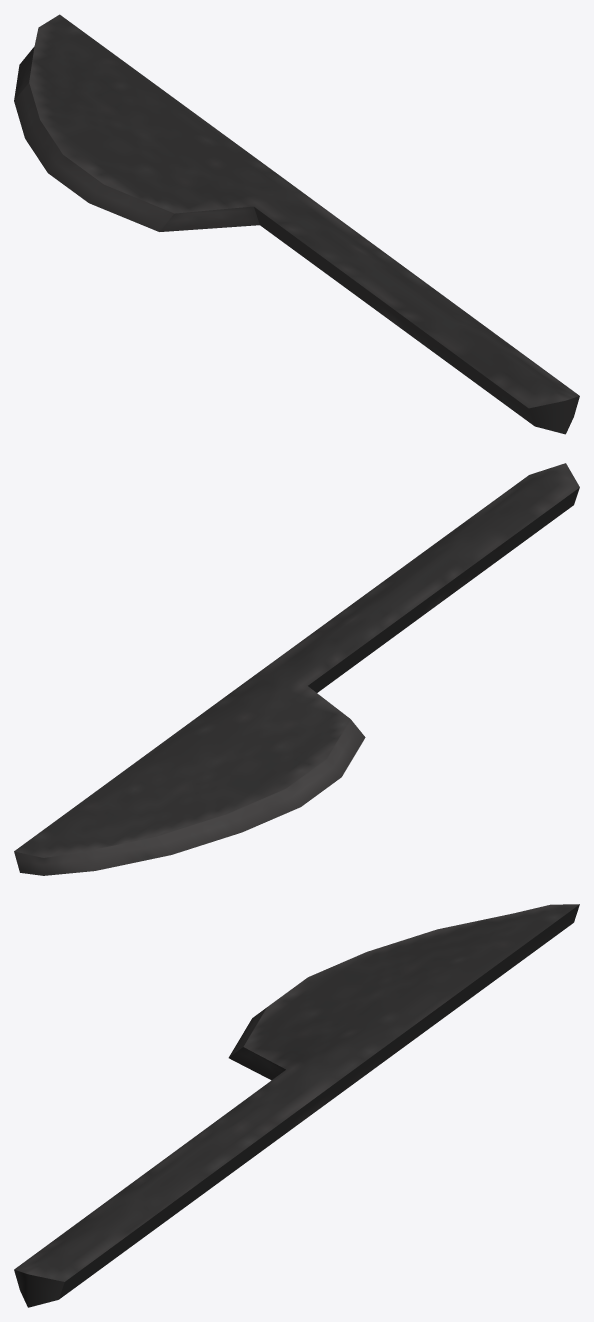
The model's file is Knife.fbx.
The picture shows the model from 3 angles, top to bottom: view 1: azimuth 30°, elevation 25°; view 2: azimuth 150°, elevation 25°; view 3: azimuth 330°, elevation 25°; orthographic projection.
Parts seen in each view (by area): view 1: pCube84; view 2: pCube84; view 3: pCube84.
Part boxes in pixels (<box>): pCube84: <box>14,14,579,434</box>; pCube84: <box>14,463,579,875</box>; pCube84: <box>14,904,579,1307</box>.
Bounding box in the file's own units: 16.43 × 3.52 × 100.
